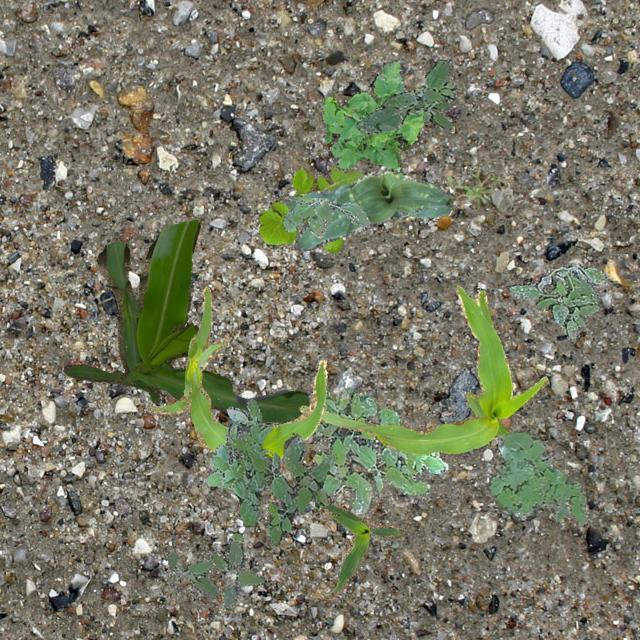crop: (64, 218, 308, 424), (298, 284, 546, 454), (150, 286, 326, 458), (279, 170, 452, 250), (318, 502, 402, 596)
weed: (204, 398, 334, 544), (310, 387, 446, 512), (322, 59, 422, 172), (484, 431, 586, 524), (258, 164, 366, 250), (508, 260, 610, 340), (164, 532, 266, 608), (354, 59, 456, 132), (282, 196, 368, 237), (446, 166, 504, 210)
